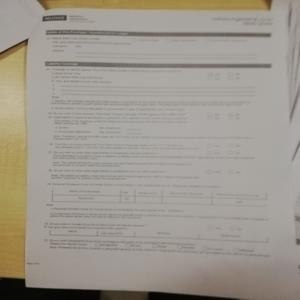image: (41, 11, 69, 23)
table: (51, 185, 272, 209), (47, 227, 268, 243)
